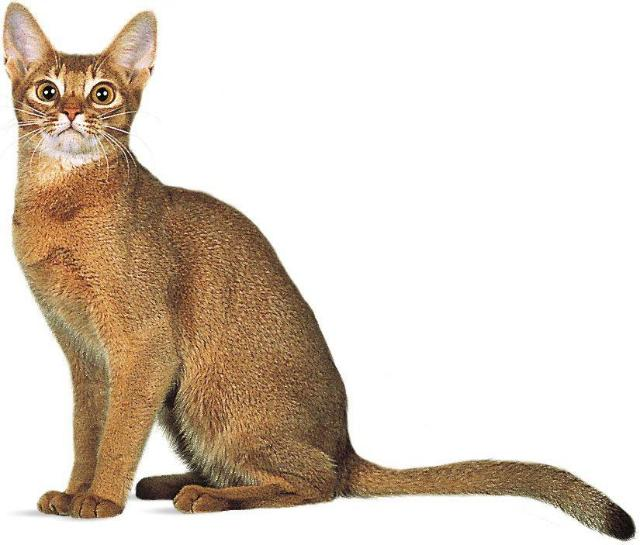cat: (3, 1, 635, 541)
